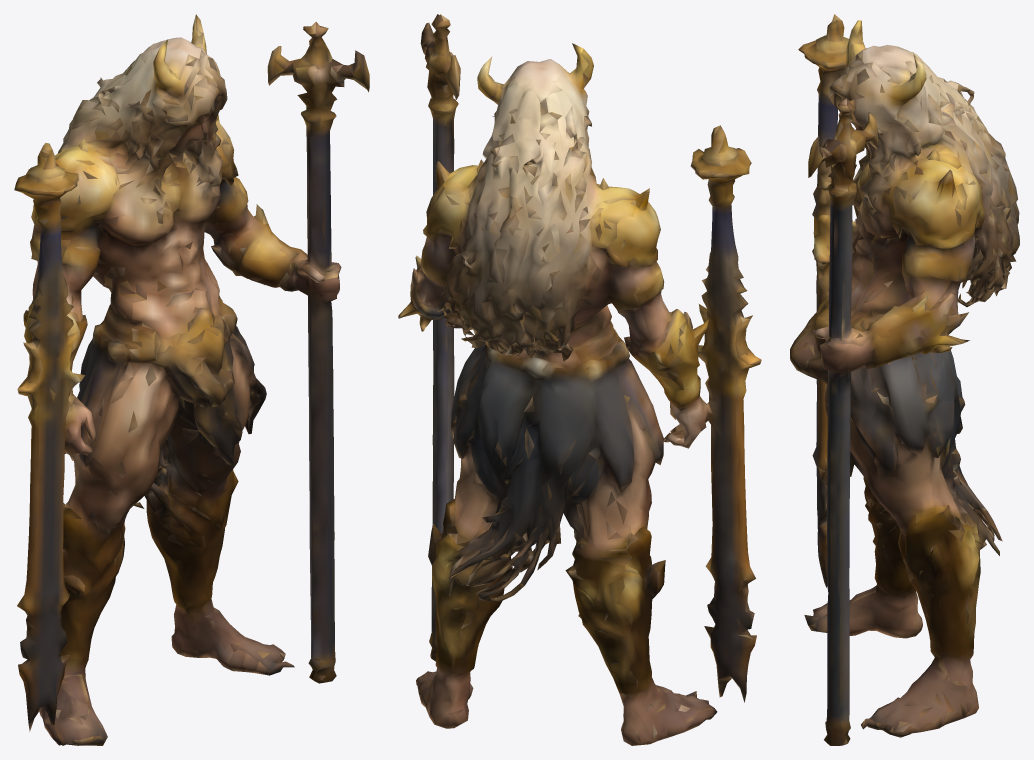
The model's file is Dick (2)_final.glb.
3 views of the same model, side by side, from view 1: azimuth 30°, elevation 25°; view 2: azimuth 150°, elevation 25°; view 3: azimuth 270°, elevation 25° (orthographic).
Parts seen in each view (by area): view 1: Mesh1.0; view 2: Mesh1.0; view 3: Mesh1.0.
Boxes of the visible parts, x1=… form: Mesh1.0: x1=14, y1=14, x2=369, y2=745; Mesh1.0: x1=398, y1=14, x2=761, y2=745; Mesh1.0: x1=790, y1=14, x2=1019, y2=745.
Bounding box in the file's own units: 1.09 × 2 × 0.6366.
1 material, 1 textured.
